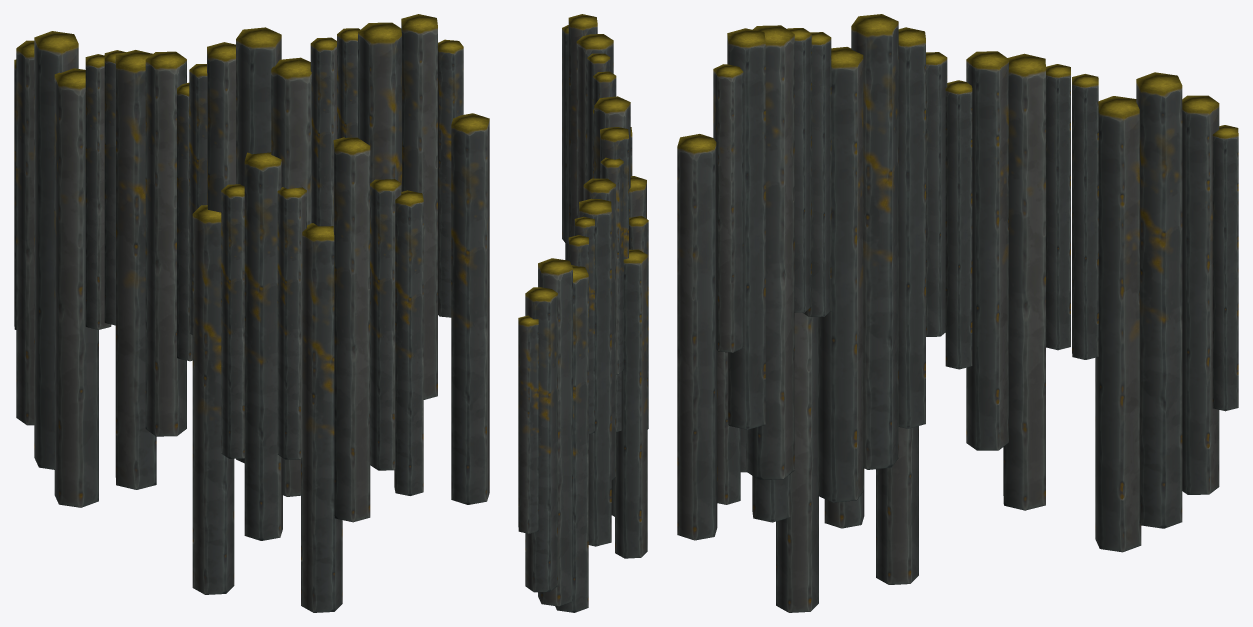
The model's file is SM_Pillar_Merged_06.glb.
3 renders of one model, left to right at view 1: azimuth 30°, elevation 25°; view 2: azimuth 150°, elevation 25°; view 3: azimuth 270°, elevation 25°, orthographic. The views are drawn at different scales.
Parts seen in each view (by area): view 1: SM_Pillar_Merged_06; view 2: SM_Pillar_Merged_06; view 3: SM_Pillar_Merged_06.
Boxes of the visible parts, x1,y1,x2,y2 form: SM_Pillar_Merged_06: [14, 14, 489, 612]; SM_Pillar_Merged_06: [518, 14, 648, 612]; SM_Pillar_Merged_06: [677, 14, 1238, 612].
Size of the model in its own units: 11.31 by 27.59 by 23.12.
1 material, 1 textured.
